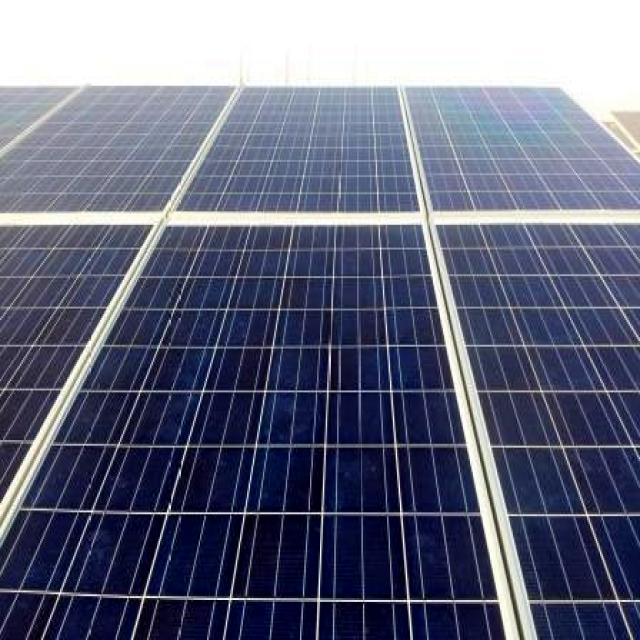crack: (0, 211, 427, 640)
